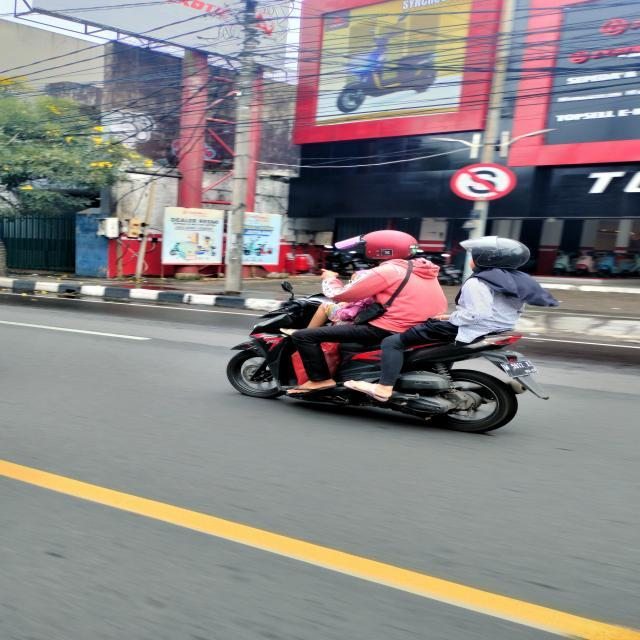Dilarang Berhenti: (450, 162, 518, 201)
